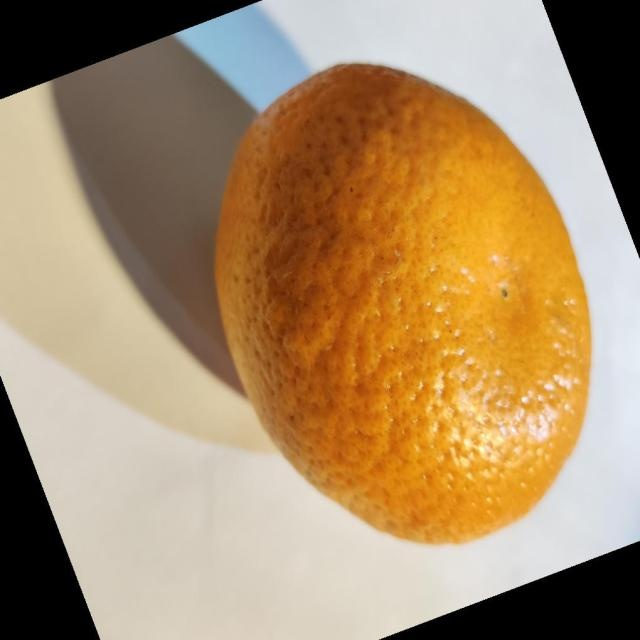agrume: (213, 61, 592, 546)
